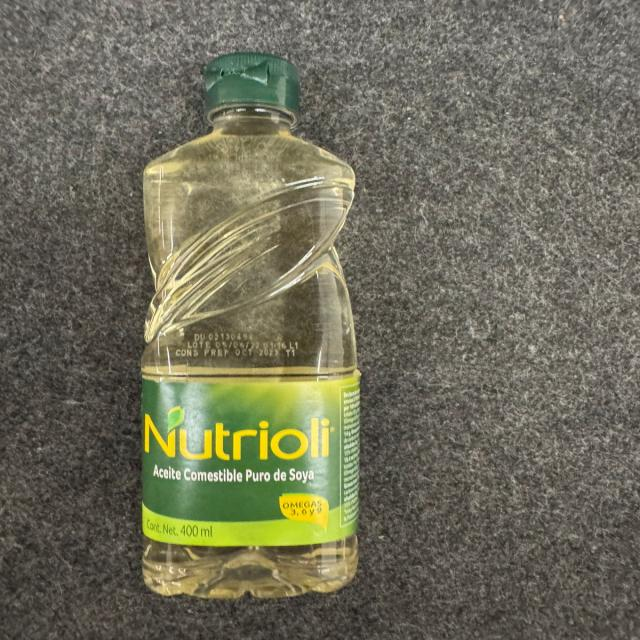ACEITE NUTRIOLI 400 ML: (99, 49, 386, 603)
